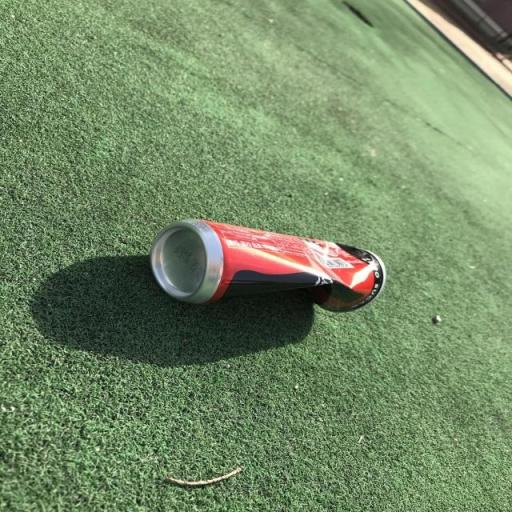metal: (124, 204, 416, 339)
